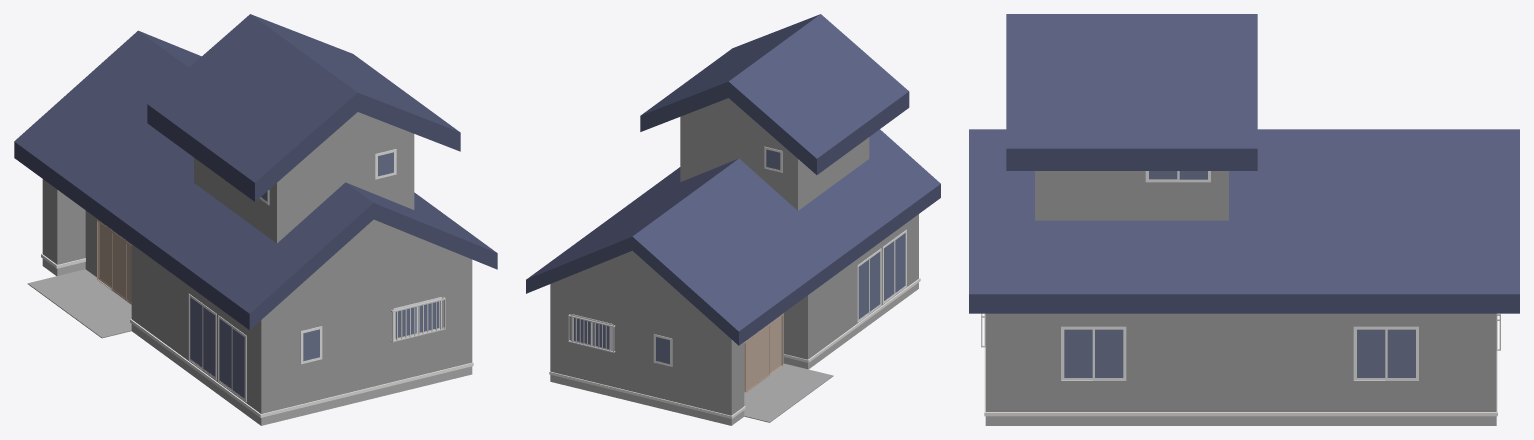
Rendered from MobHouse41.fbx.
The picture shows the model from 3 angles, left to right: view 1: azimuth 30°, elevation 25°; view 2: azimuth 150°, elevation 25°; view 3: azimuth 270°, elevation 25°; orthographic projection. The views are drawn at different scales.
Visible parts, largest first — view 1: Flat_half_house01.041; view 2: Flat_half_house01.041; view 3: Flat_half_house01.041.
Part boxes in pixels (x1,y1,x2,y2): Flat_half_house01.041: (14,14,497,425); Flat_half_house01.041: (526,14,940,425); Flat_half_house01.041: (969,14,1519,425).
Bounding box in the file's own units: 6.97 × 7.72 × 10.96.
